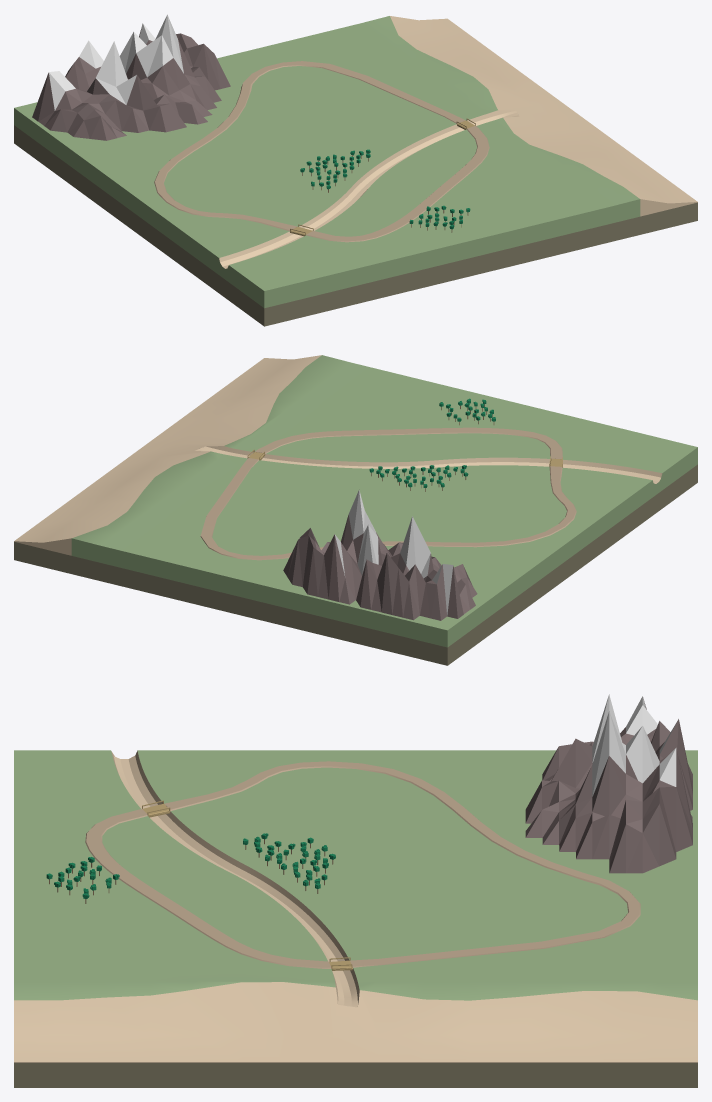
Rendered from Map_BadRoad_V2.fbx.
The picture shows the model from 3 angles, top to bottom: view 1: azimuth 30°, elevation 25°; view 2: azimuth 150°, elevation 25°; view 3: azimuth 270°, elevation 25°; orthographic projection. The views are drawn at different scales.
Parts seen in each view (by area): view 1: Terrain, BadRoad_2, BadRoad_1; view 2: Terrain, BadRoad_2, BadRoad_1; view 3: Terrain, BadRoad_2, BadRoad_1.
Part boxes in pixels (<box>): Terrain: <box>14,14,697,326</box>; BadRoad_2: <box>154,61,465,231</box>; BadRoad_1: <box>306,125,489,242</box>; Terrain: <box>14,355,697,665</box>; BadRoad_2: <box>200,458,576,560</box>; BadRoad_1: <box>254,427,562,459</box>; Terrain: <box>14,694,697,1087</box>; BadRoad_2: <box>164,761,640,967</box>; BadRoad_1: <box>85,809,331,968</box>.
Size of the model in its own units: 23.74 by 6.45 by 23.74.
